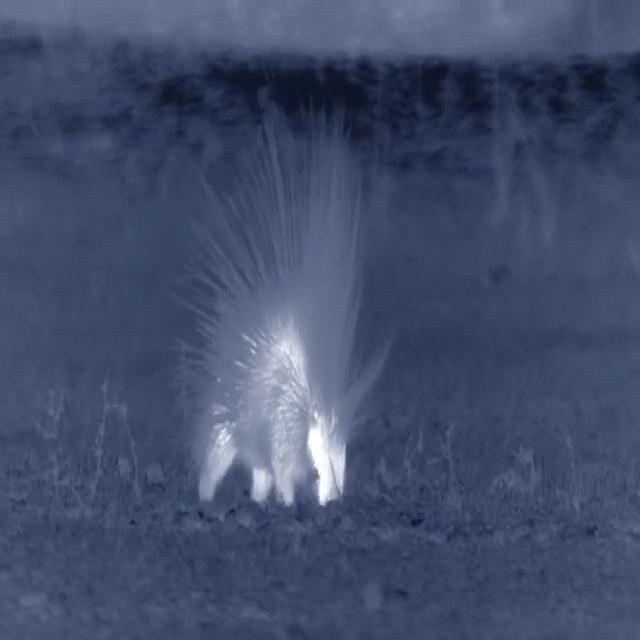animal: (120, 70, 474, 547)
